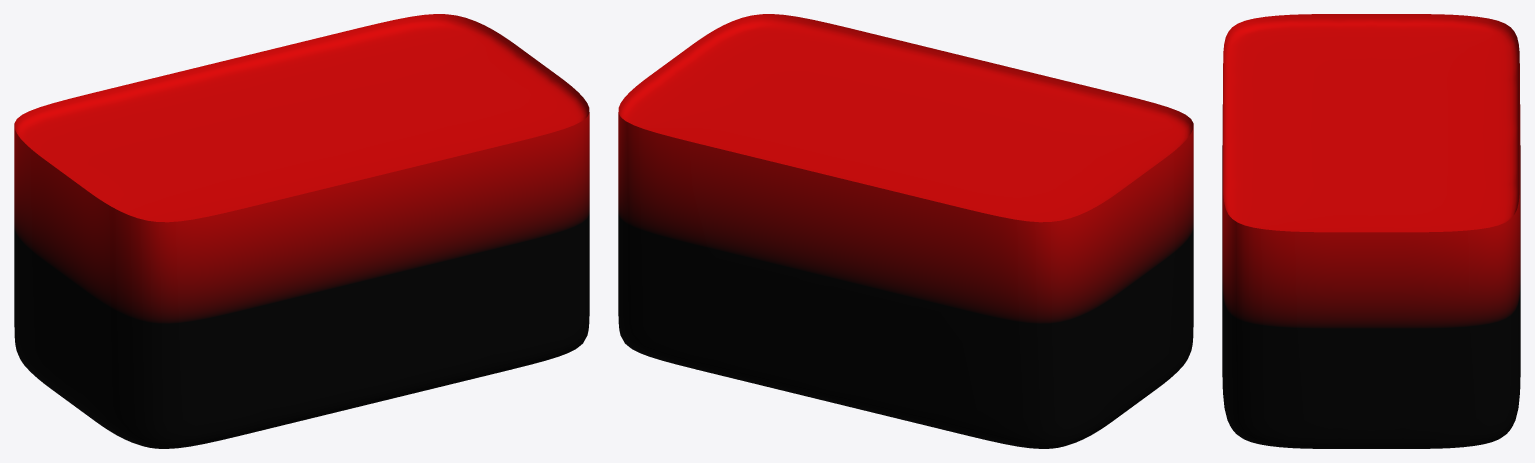
Rendered from Water.fbx.
3 renders of one model, left to right at view 1: azimuth 30°, elevation 25°; view 2: azimuth 150°, elevation 25°; view 3: azimuth 270°, elevation 25°, orthographic. The views are drawn at different scales.
Visible parts, largest first — view 1: Water; view 2: Water; view 3: Water.
Part boxes in pixels (x1,y1,x2,y2): Water: [14, 14, 589, 448]; Water: [618, 14, 1193, 448]; Water: [1222, 14, 1520, 448].
Size of the model in its own units: 48 by 23.19 by 27.71.
